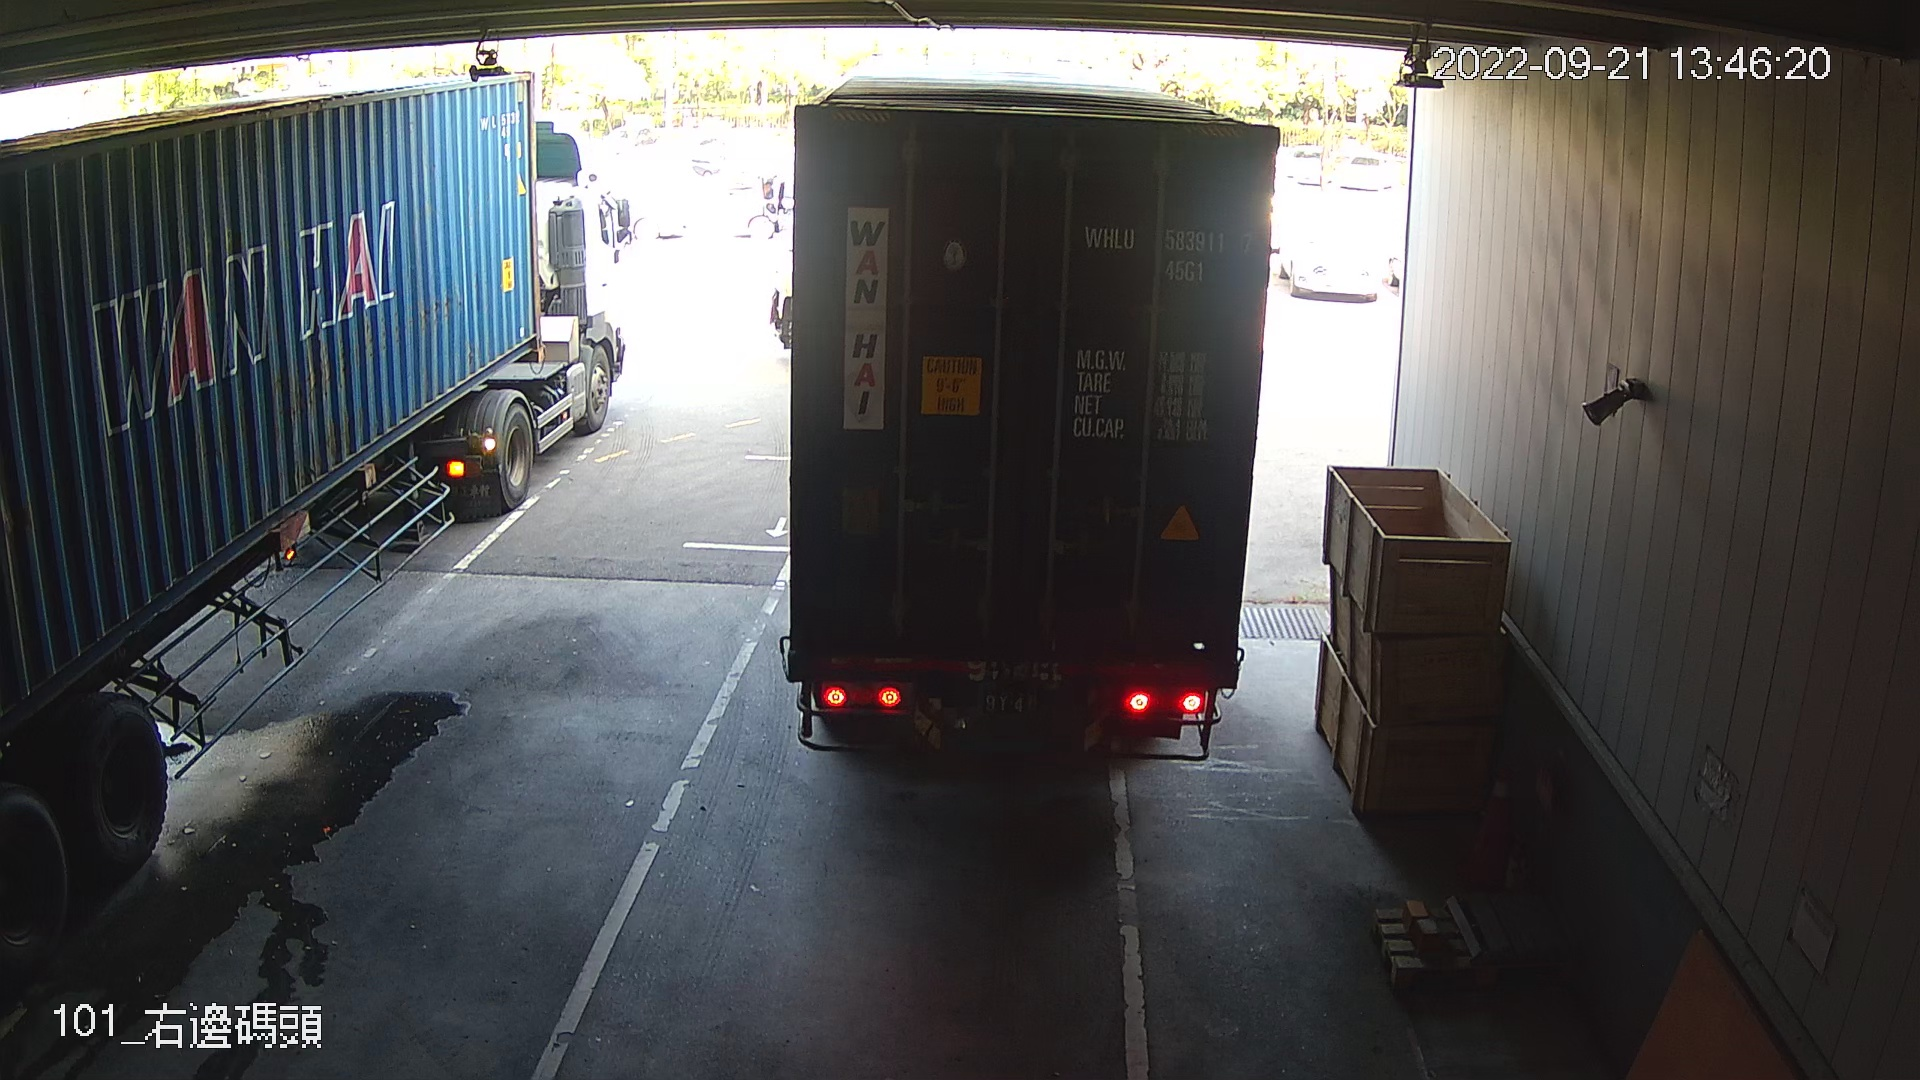container: (1076, 214, 1261, 291)
